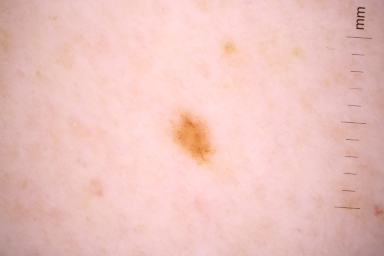nevus: (176, 116, 211, 159)
